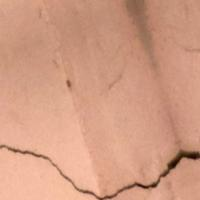crack: (0, 124, 199, 199)
